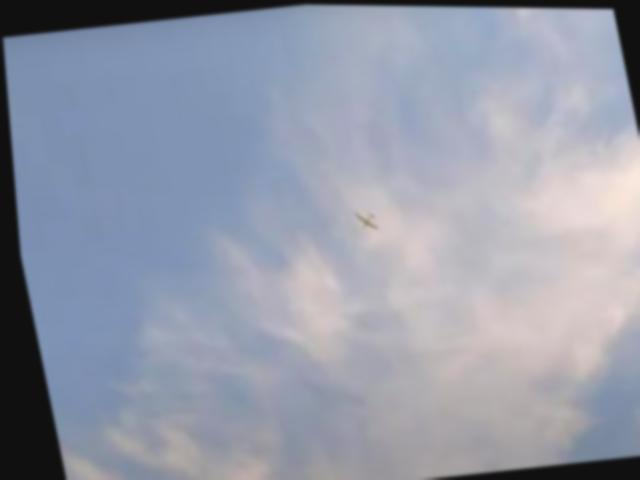iha: (350, 207, 380, 231)
